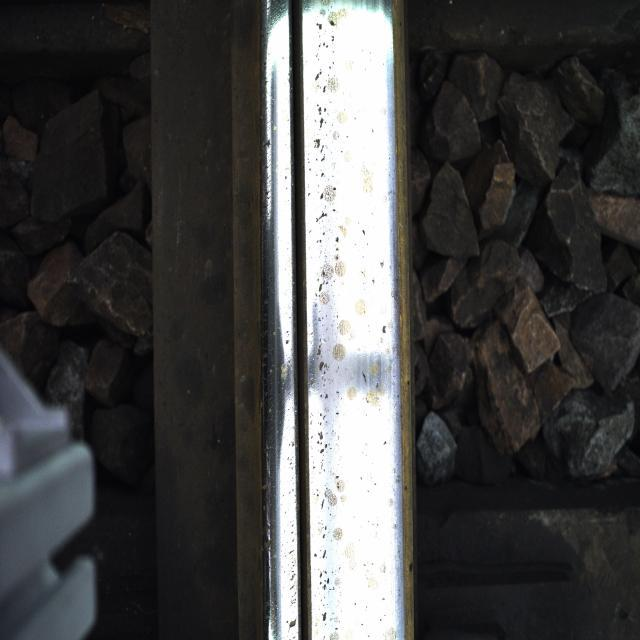scar: (307, 7, 358, 640)
